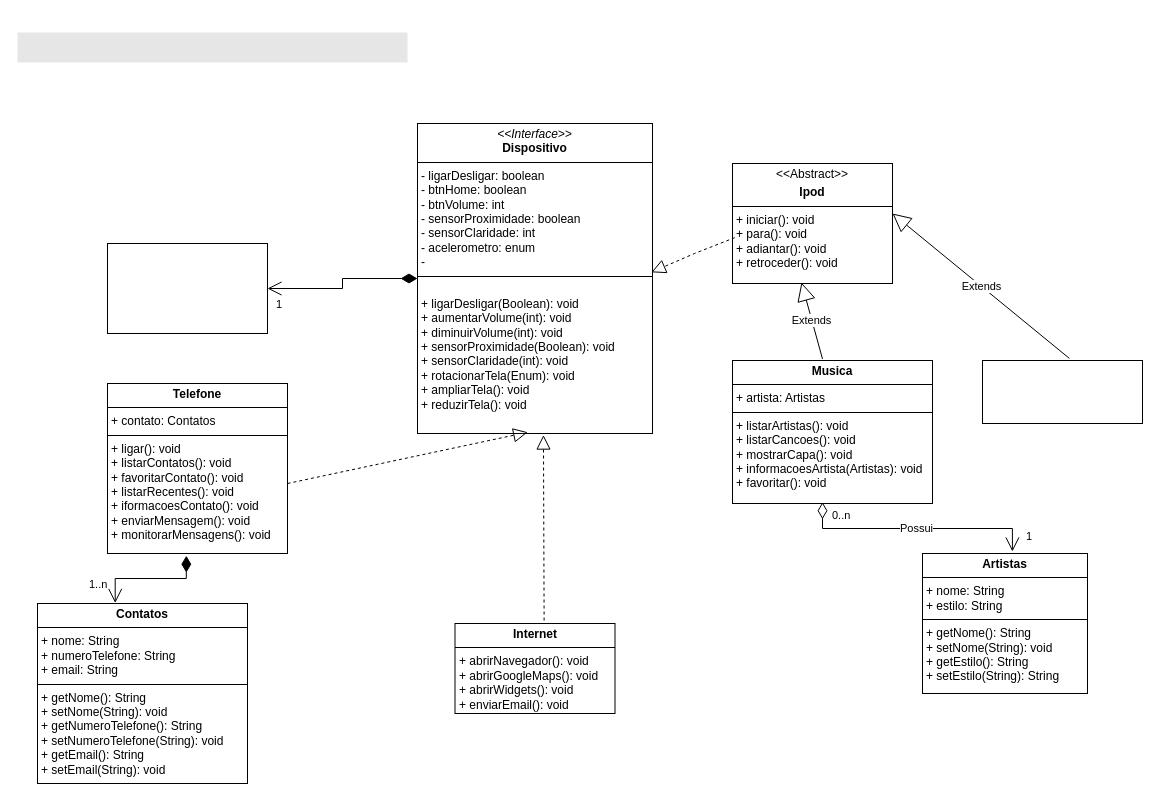
The diagram is 1160 pixels wide and 801 high, and some of its shapes have lost their labels. The shapes that lost their labels are listed below. From the top down, each one's centre as x and y in pixels, then its label:
At (212,47): "MODELAGEM DO PRIMEIRO IPHONE LANÇADO EM 2007".
At (187,288): "<<Enum>> Acelerometro + PAISAGEM : String + RETRATO : String".
At (1062,392): "Video + modoPaisagem(): void".
